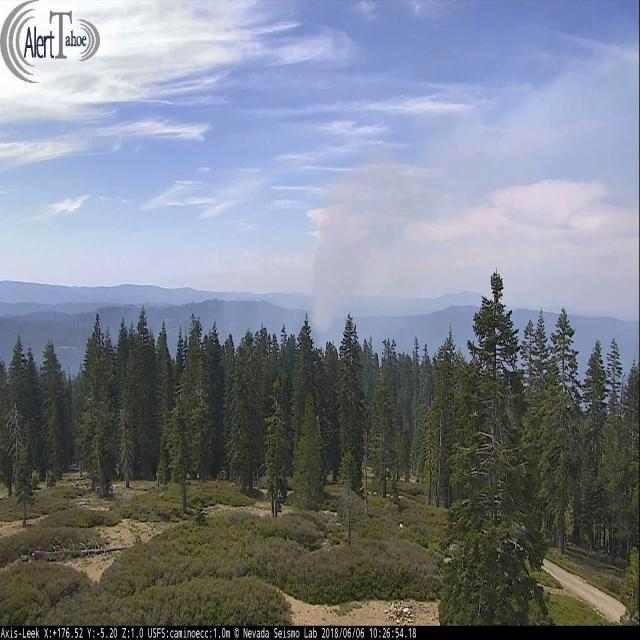smoke: (306, 49, 640, 333)
